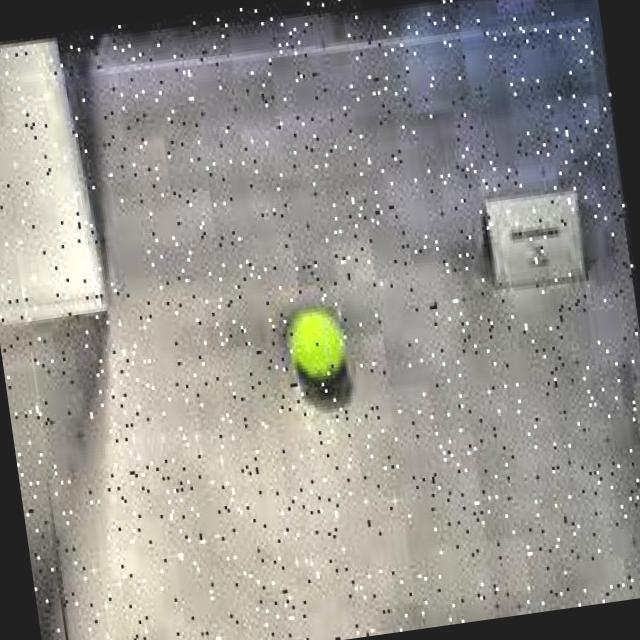Tennis Ball: (284, 303, 354, 402)
